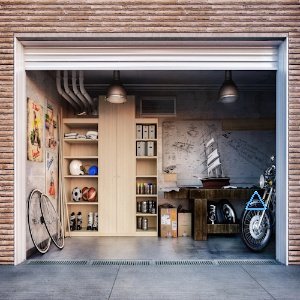triangle: (245, 190, 269, 215)
